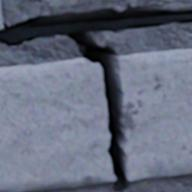brick: (43, 0, 101, 6), (0, 0, 3, 29)
broken_brick: (0, 58, 115, 191), (116, 49, 191, 180)
crack: (0, 1, 191, 191)
